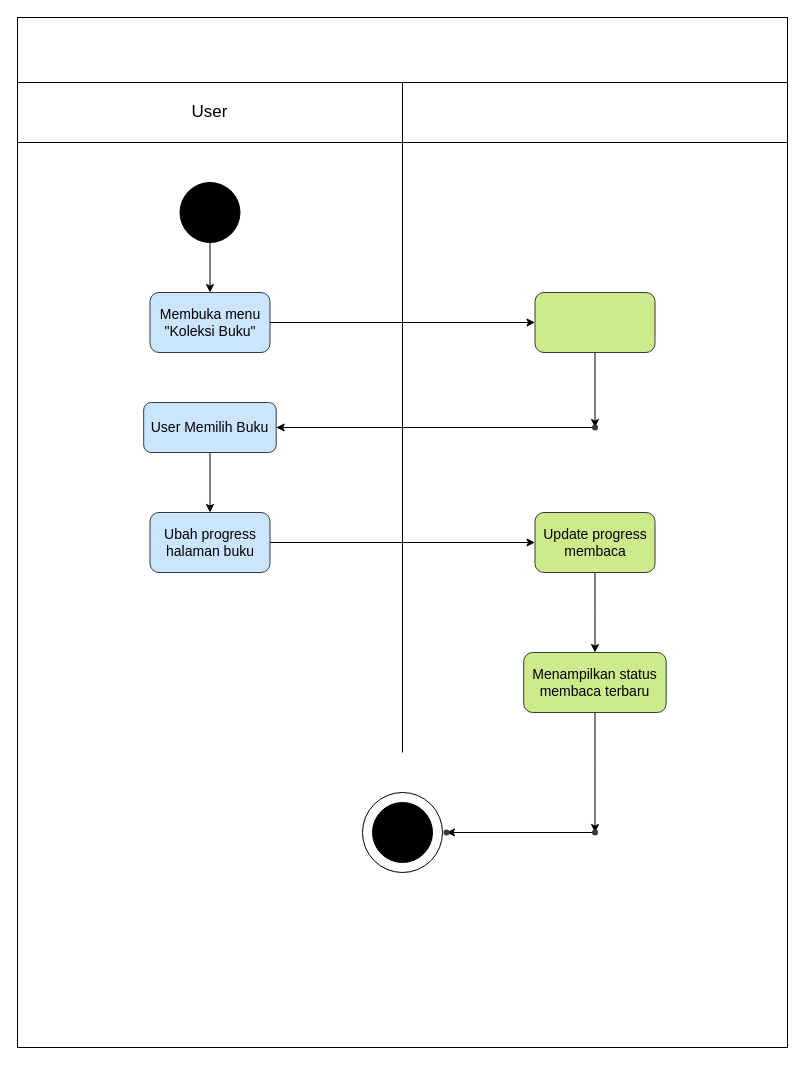
This 805x1065 diagram has some shape labels left out. The shapes that lost their labels are listed below. From the top down, each one's box as (x1, y1, x2, y2) in pixels, then its label:
(16, 16, 788, 82): ACTIVITY DIAGRAM MENGUBAH STATUS BUKU
(402, 82, 788, 142): Sistem
(534, 292, 655, 352): Menampilkan Daftar Buku
